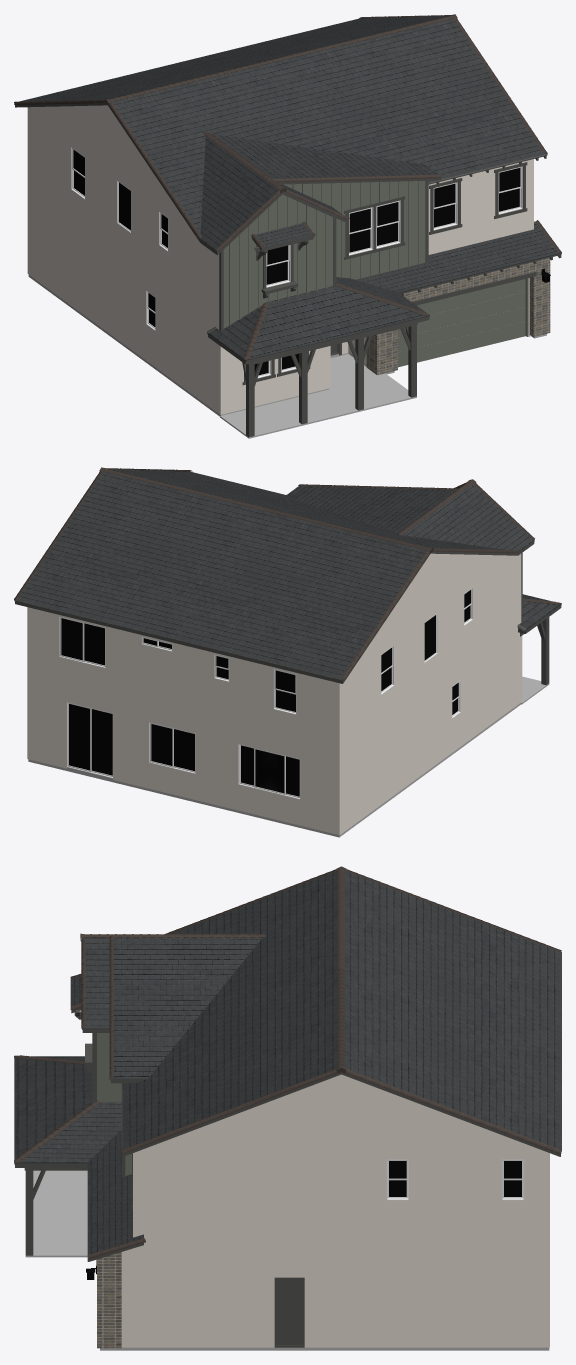
File: KBhomes_2345_elevation_farmhouse.glb
The picture shows the model from 3 angles, top to bottom: view 1: azimuth 30°, elevation 25°; view 2: azimuth 150°, elevation 25°; view 3: azimuth 270°, elevation 25°; orthographic projection. The views are drawn at different scales.
Visible parts, largest first — view 1: Rectangle006.001, Plane, Plane.001, Line071.001, !garage 4 flat panels_C.001, Line005.003, Line032.001, Line003.003, Line073.001, Line075.001, Line077.001, Line001.001 (+24 smaller); view 2: Rectangle006.001, Plane.001, Line075.001, Plane, Line077.001, !STD_SH_OC_VRAY_DAY022.001, !STD_SH_OC_VRAY_DAY023.001, !STD_SH_OC_VRAY_DAY020.001, !STD_SH_OC_VRAY_DAY021.001, Gable_Fascia007, Rectangle042.001, $$_FLAT_CAP_001 (+8 smaller); view 3: Rectangle006.001, Plane.001, Plane, Line075.001, Line071.001, Line032.001, Line073.001, Line074.001, $$_F_RIGHT_GABLE_CAP_035, Line001.001, Line078.001, !!servicedoor001.001 (+11 smaller).
Part boxes in pixels (left/top/right/bottom): Rectangle006.001: left=27, top=105, right=533, bottom=414; Plane: left=111, top=18, right=544, bottom=234; Plane.001: left=19, top=16, right=448, bottom=101; Line071.001: left=245, top=286, right=429, bottom=360; !garage 4 flat panels_C.001: left=398, top=278, right=527, bottom=367; Line005.003: left=223, top=194, right=333, bottom=328; Line032.001: left=220, top=354, right=416, bottom=438; Line003.003: left=285, top=181, right=425, bottom=279; Line073.001: left=356, top=221, right=561, bottom=292; Line075.001: left=211, top=134, right=438, bottom=178; Line077.001: left=200, top=136, right=278, bottom=251; Line001.001: left=366, top=258, right=550, bottom=374; Rectangle006.001: left=27, top=553, right=522, bottom=835; Plane.001: left=15, top=471, right=426, bottom=679; Line075.001: left=284, top=486, right=456, bottom=533; Plane: left=108, top=469, right=505, bottom=549; Line077.001: left=402, top=483, right=534, bottom=550; !STD_SH_OC_VRAY_DAY022.001: left=66, top=702, right=113, bottom=778; !STD_SH_OC_VRAY_DAY023.001: left=238, top=743, right=300, bottom=799; !STD_SH_OC_VRAY_DAY020.001: left=59, top=616, right=105, bottom=668; !STD_SH_OC_VRAY_DAY021.001: left=149, top=722, right=195, bottom=773; Gable_Fascia007: left=14, top=551, right=518, bottom=683; Rectangle042.001: left=28, top=702, right=521, bottom=837; $$_FLAT_CAP_001: left=103, top=468, right=428, bottom=550; Rectangle006.001: left=121, top=1074, right=549, bottom=1347; Plane.001: left=345, top=871, right=561, bottom=1151; Plane: left=122, top=871, right=337, bottom=1149; Line075.001: left=110, top=937, right=262, bottom=1078; Line071.001: left=14, top=1058, right=92, bottom=1159; Line032.001: left=25, top=1170, right=87, bottom=1257; Line073.001: left=87, top=1131, right=143, bottom=1254; Line074.001: left=14, top=1102, right=121, bottom=1163; $$_F_RIGHT_GABLE_CAP_035: left=87, top=1066, right=561, bottom=1258; Line001.001: left=97, top=1252, right=121, bottom=1348; Line078.001: left=82, top=937, right=109, bottom=1028; !!servicedoor001.001: left=274, top=1277, right=304, bottom=1347.
Size of the model in its own units: 12.9 by 8.61 by 14.81.
Materials: 16 (11 with a texture image).
